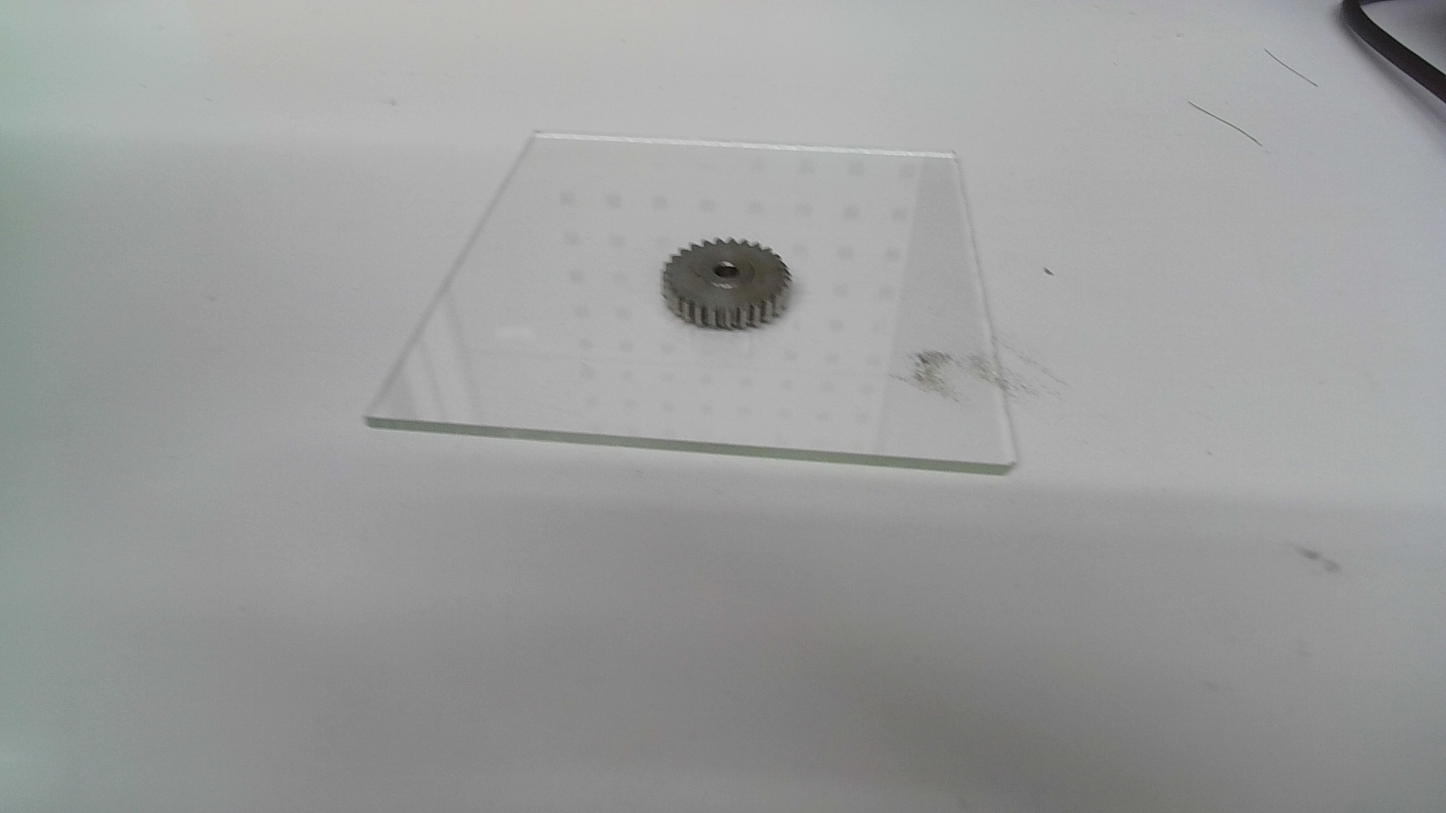gear: (657, 235, 796, 334)
